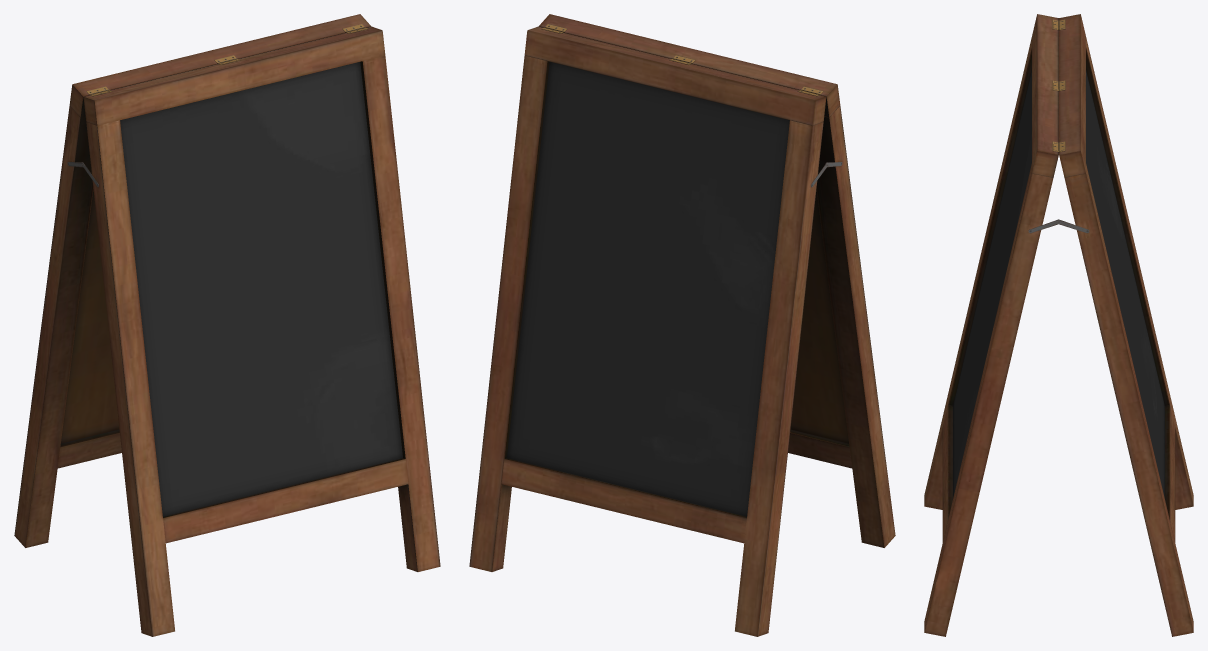
The model's file is standing_chalkboard_01.glb.
The picture shows the model from 3 angles, left to right: view 1: azimuth 30°, elevation 25°; view 2: azimuth 150°, elevation 25°; view 3: azimuth 270°, elevation 25°; orthographic projection. The views are drawn at different scales.
Visible parts, largest first — view 1: standing_chalkboard_01; view 2: standing_chalkboard_01; view 3: standing_chalkboard_01.
Boxes of the visible parts, x1,y1,x2,y2 form: standing_chalkboard_01: (14,14,440,636); standing_chalkboard_01: (469,14,895,636); standing_chalkboard_01: (924,14,1193,636).
Size of the model in its own units: 0.9195 by 1.51 by 0.7587.
2 materials, 2 textured.
